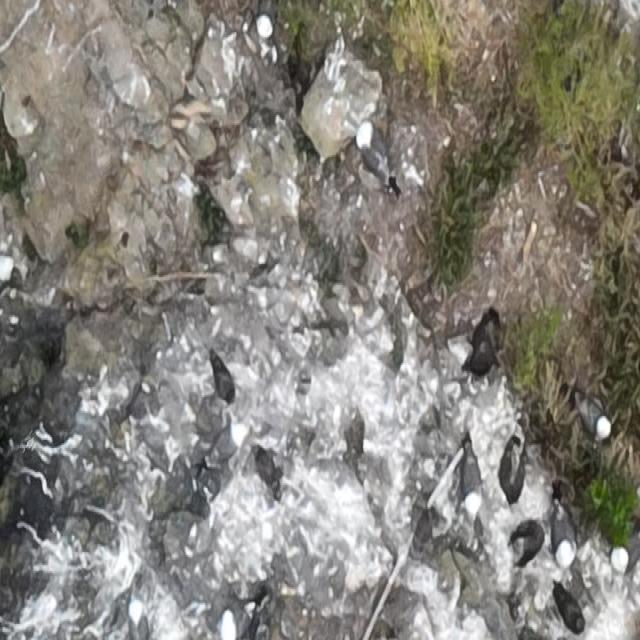umineko: (356, 122, 391, 187), (572, 394, 610, 442), (202, 424, 245, 464), (552, 502, 576, 566), (461, 445, 481, 513), (223, 604, 257, 637), (610, 536, 639, 570), (129, 600, 148, 638), (256, 1, 276, 37)
